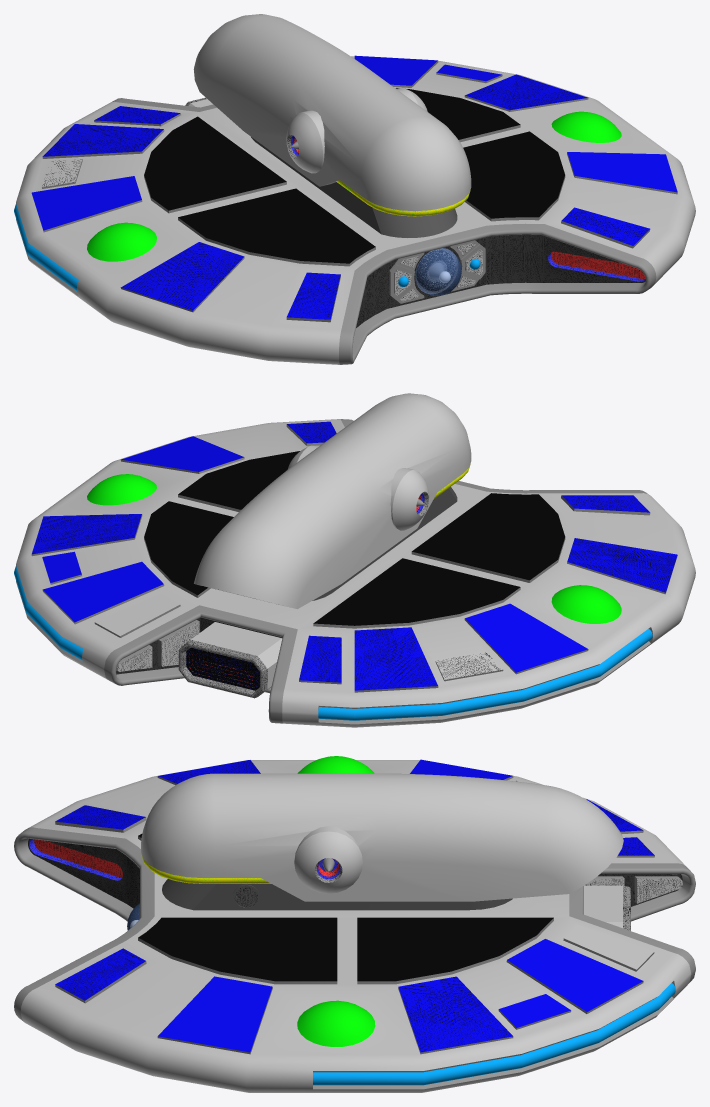
Rendered from alien.dae.
3 views of the same model, one above another, from view 1: azimuth 30°, elevation 25°; view 2: azimuth 150°, elevation 25°; view 3: azimuth 270°, elevation 25° (orthographic). The views are drawn at different scales.
Visible parts, largest first — view 1: SketchUp (×30); view 2: SketchUp (×33); view 3: SketchUp (×28).
Boxes of the visible parts, x1,y1,x2,y2 form: SketchUp (×30): [14, 14, 695, 364]; SketchUp (×33): [14, 393, 695, 727]; SketchUp (×28): [14, 756, 695, 1092].
Size of the model in its own units: 2735 by 2545 by 807.
